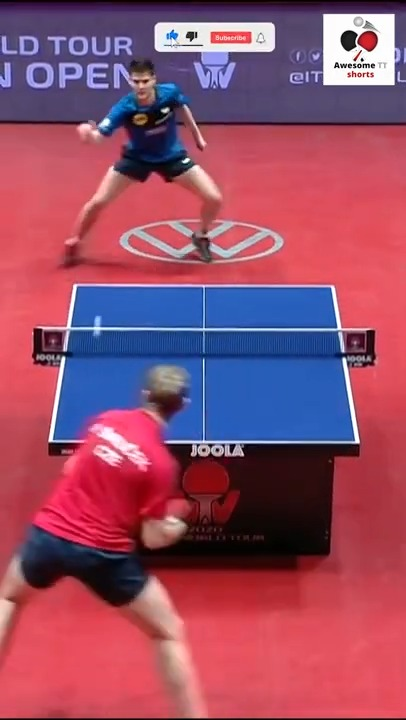Ball: (93, 316, 104, 333)
